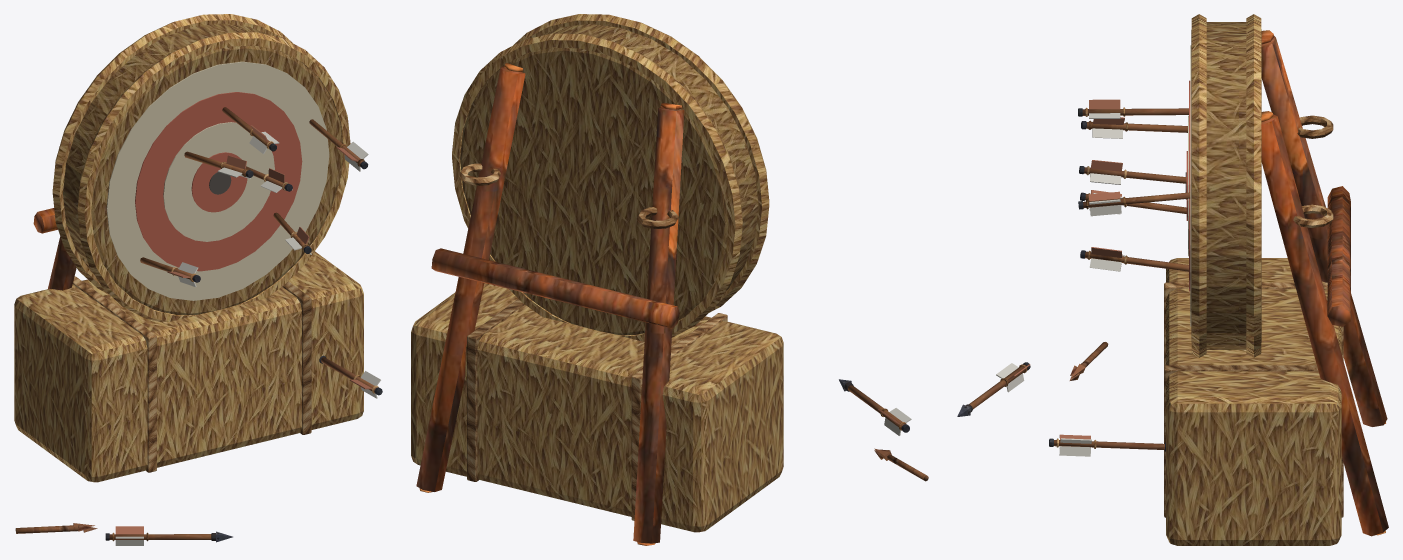
File: ro_archery_bale.glb
3 renders of one model, left to right at view 1: azimuth 30°, elevation 25°; view 2: azimuth 150°, elevation 25°; view 3: azimuth 270°, elevation 25°, orthographic. The views are drawn at different scales.
Visible parts, largest first — view 1: model; view 2: model; view 3: model.
Boxes of the visible parts, x1,y1,x2,y2 form: model: (14, 14, 382, 545); model: (411, 14, 928, 545); model: (957, 14, 1388, 545).
Size of the model in its own units: 1.23 by 1.27 by 1.11.
19 materials, 14 textured.
